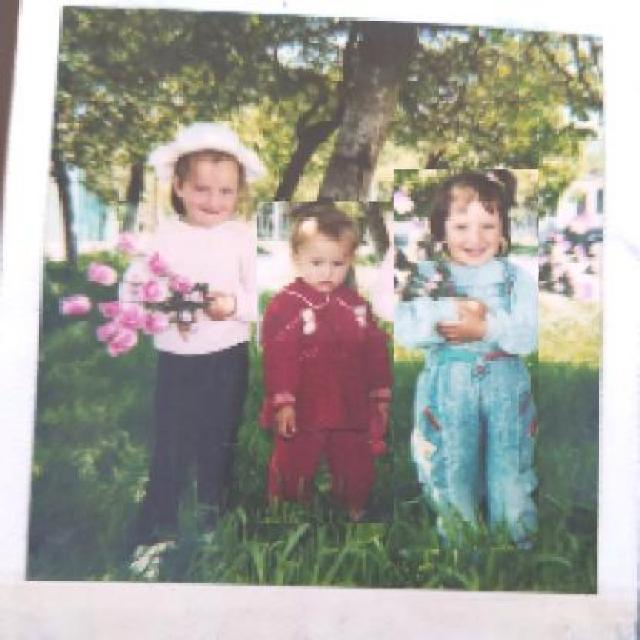child: (117, 121, 277, 578), (392, 169, 538, 551), (255, 202, 394, 524)
